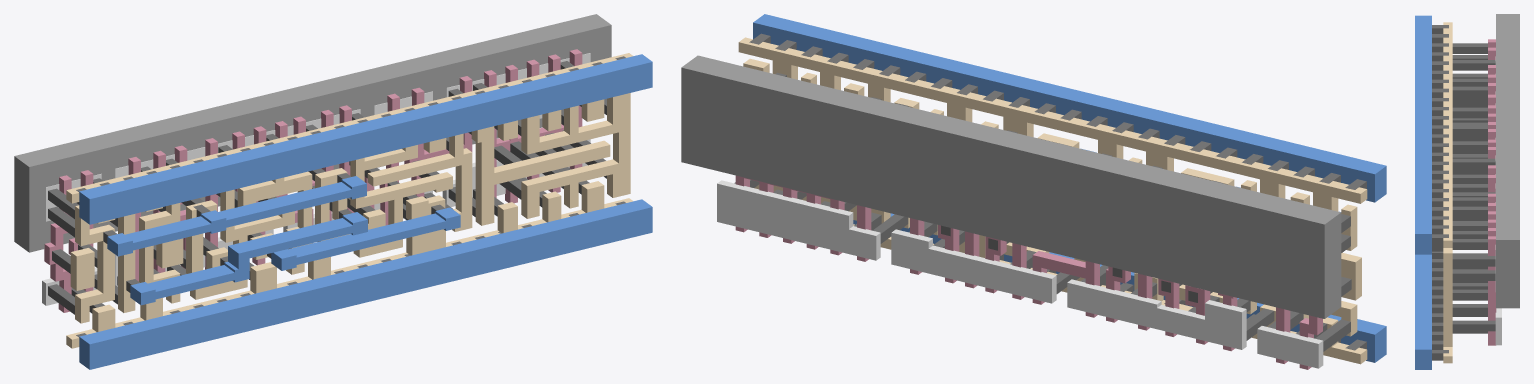
The model's file is sky130_fd_sc_hd__dfstp_4.gds.gltf.
3 views of the same model, side by side, from view 1: azimuth 30°, elevation 25°; view 2: azimuth 150°, elevation 25°; view 3: azimuth 270°, elevation 25° (orthographic). The views are drawn at different scales.
Parts seen in each view (by area): view 1: sky130_fd_sc_hd__dfstp_4_met1, sky130_fd_sc_hd__dfstp_4_li1, sky130_fd_sc_hd__dfstp_4_nwell, sky130_fd_sc_hd__dfstp_4_poly, sky130_fd_sc_hd__dfstp_4_licon, sky130_fd_sc_hd__dfstp_4_diff, sky130_fd_sc_hd__dfstp_4_mcon; view 2: sky130_fd_sc_hd__dfstp_4_nwell, sky130_fd_sc_hd__dfstp_4_diff, sky130_fd_sc_hd__dfstp_4_li1, sky130_fd_sc_hd__dfstp_4_met1, sky130_fd_sc_hd__dfstp_4_poly, sky130_fd_sc_hd__dfstp_4_licon, sky130_fd_sc_hd__dfstp_4_mcon; view 3: sky130_fd_sc_hd__dfstp_4_licon, sky130_fd_sc_hd__dfstp_4_nwell, sky130_fd_sc_hd__dfstp_4_met1, sky130_fd_sc_hd__dfstp_4_mcon, sky130_fd_sc_hd__dfstp_4_li1, sky130_fd_sc_hd__dfstp_4_poly, sky130_fd_sc_hd__dfstp_4_diff.
Part boxes in pixels (<box>): sky130_fd_sc_hd__dfstp_4_met1: <box>79,54,652,369</box>; sky130_fd_sc_hd__dfstp_4_li1: <box>66,53,633,348</box>; sky130_fd_sc_hd__dfstp_4_nwell: <box>14,14,611,252</box>; sky130_fd_sc_hd__dfstp_4_poly: <box>44,49,582,312</box>; sky130_fd_sc_hd__dfstp_4_licon: <box>48,61,606,314</box>; sky130_fd_sc_hd__dfstp_4_diff: <box>42,53,590,305</box>; sky130_fd_sc_hd__dfstp_4_mcon: <box>76,56,625,337</box>; sky130_fd_sc_hd__dfstp_4_nwell: <box>681,55,1341,318</box>; sky130_fd_sc_hd__dfstp_4_diff: <box>717,180,1323,368</box>; sky130_fd_sc_hd__dfstp_4_li1: <box>738,37,1367,364</box>; sky130_fd_sc_hd__dfstp_4_met1: <box>753,14,1386,362</box>; sky130_fd_sc_hd__dfstp_4_poly: <box>735,175,1322,369</box>; sky130_fd_sc_hd__dfstp_4_licon: <box>734,72,1351,351</box>; sky130_fd_sc_hd__dfstp_4_mcon: <box>749,33,1366,350</box>; sky130_fd_sc_hd__dfstp_4_licon: <box>1452,43,1495,333</box>; sky130_fd_sc_hd__dfstp_4_nwell: <box>1496,14,1519,308</box>; sky130_fd_sc_hd__dfstp_4_met1: <box>1415,15,1431,369</box>; sky130_fd_sc_hd__dfstp_4_mcon: <box>1432,25,1448,360</box>; sky130_fd_sc_hd__dfstp_4_li1: <box>1443,22,1452,363</box>; sky130_fd_sc_hd__dfstp_4_poly: <box>1488,39,1496,345</box>; sky130_fd_sc_hd__dfstp_4_diff: <box>1495,56,1501,345</box>.
Bounding box in the file's own units: 11.42 × 3.2 × 2.24.
